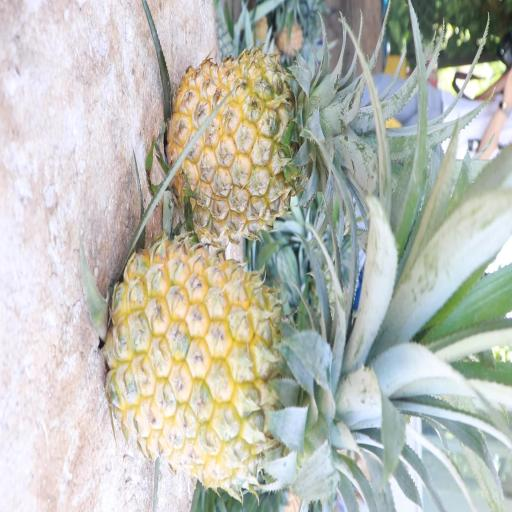Pineapple - v8 v1: (98, 234, 388, 495), (162, 44, 362, 253), (216, 154, 226, 158), (223, 112, 232, 112)
